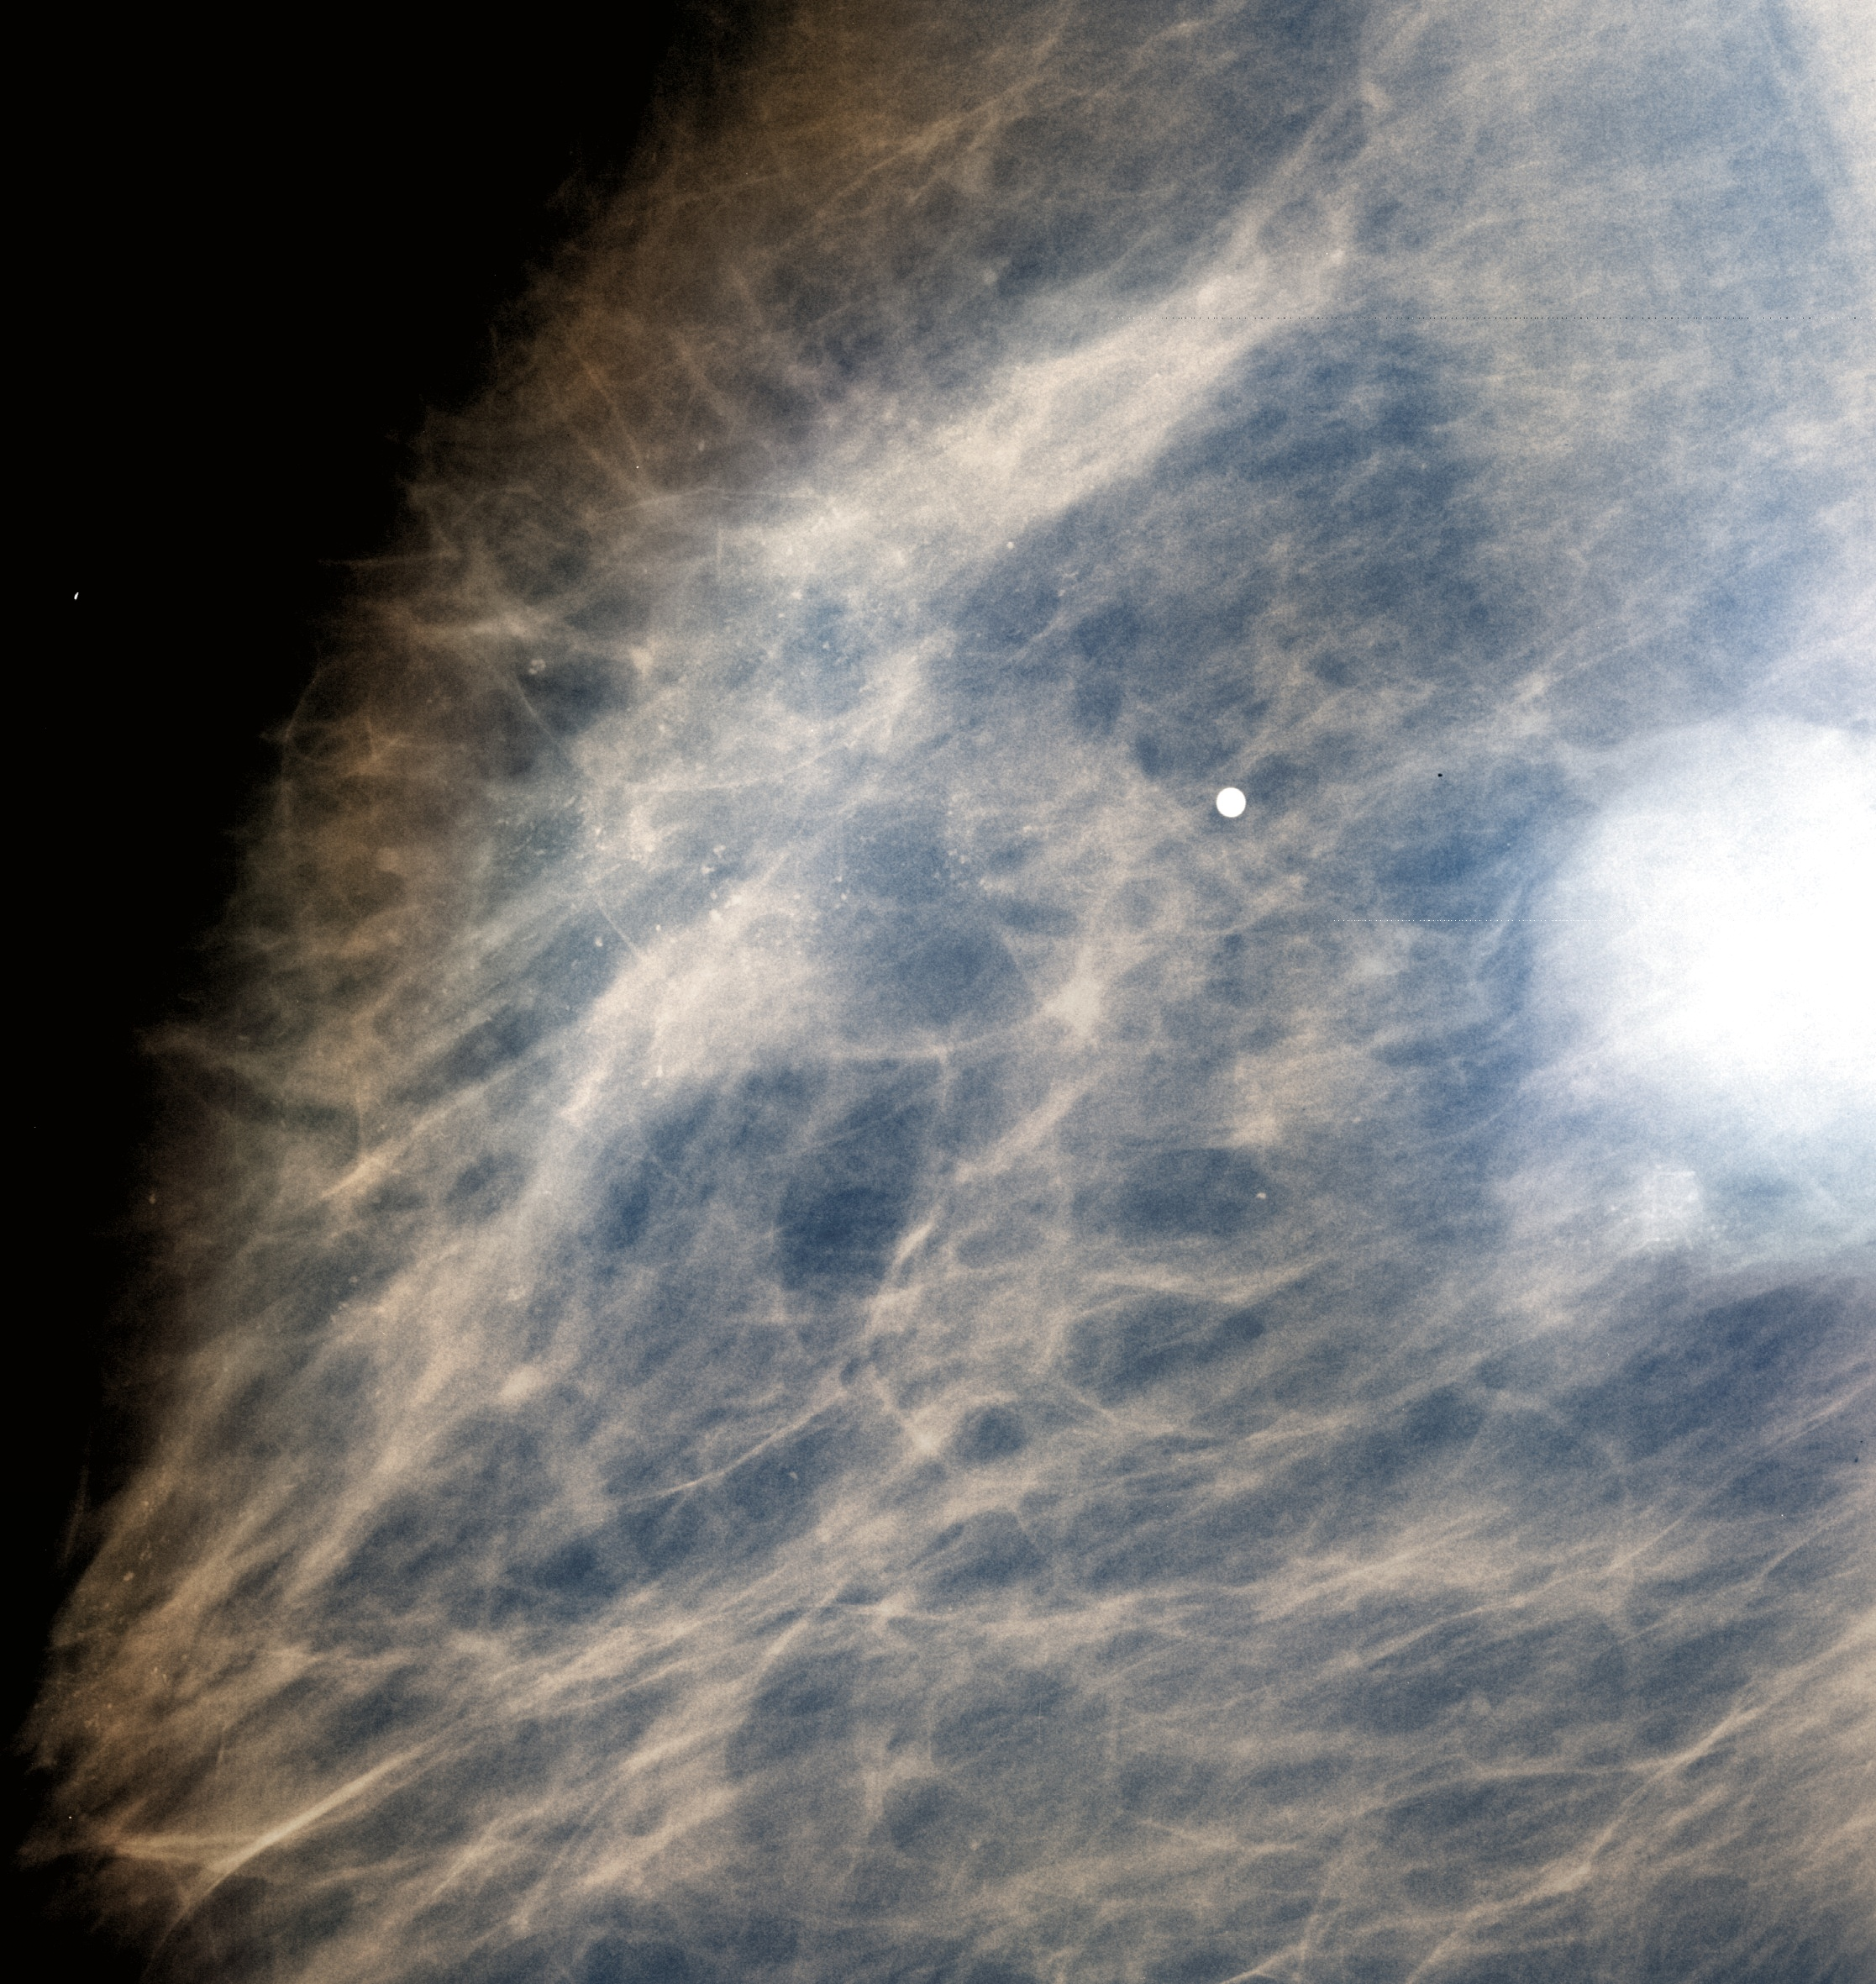tumor: (0, 0, 1500, 1984), (1277, 497, 1876, 1554)
